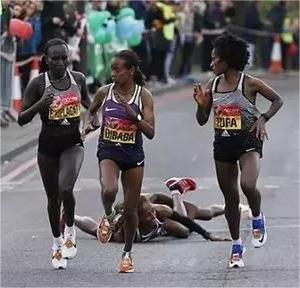down: (67, 174, 225, 242)
up: (193, 35, 283, 270), (18, 41, 95, 273), (85, 48, 160, 275)
